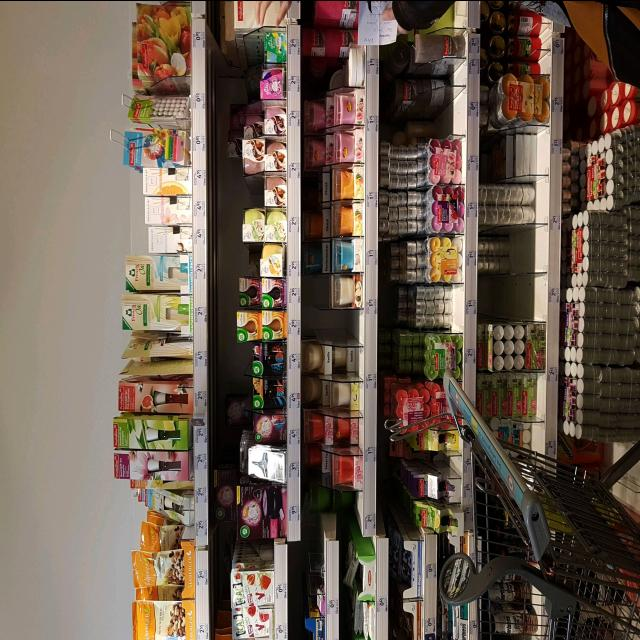empty_space: (478, 274, 541, 318), (513, 228, 545, 272), (318, 312, 362, 339), (430, 104, 463, 132)
